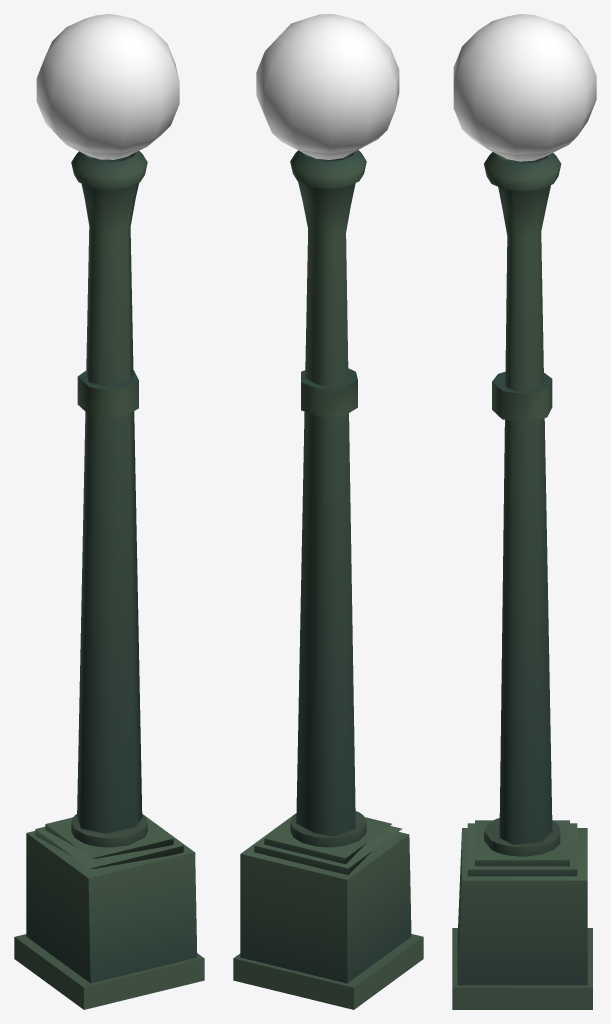
File: SphereLightPole_Regular.fbx
The picture shows the model from 3 angles, left to right: view 1: azimuth 30°, elevation 25°; view 2: azimuth 150°, elevation 25°; view 3: azimuth 270°, elevation 25°; orthographic projection.
Visible parts, largest first — view 1: SphereLightPole_Regular; view 2: SphereLightPole_Regular; view 3: SphereLightPole_Regular.
Part boxes in pixels (<box>): SphereLightPole_Regular: <box>14,14,204,1009</box>; SphereLightPole_Regular: <box>233,14,423,1009</box>; SphereLightPole_Regular: <box>452,14,596,1009</box>.
Size of the model in its own units: 78.64 by 576 by 78.56.
